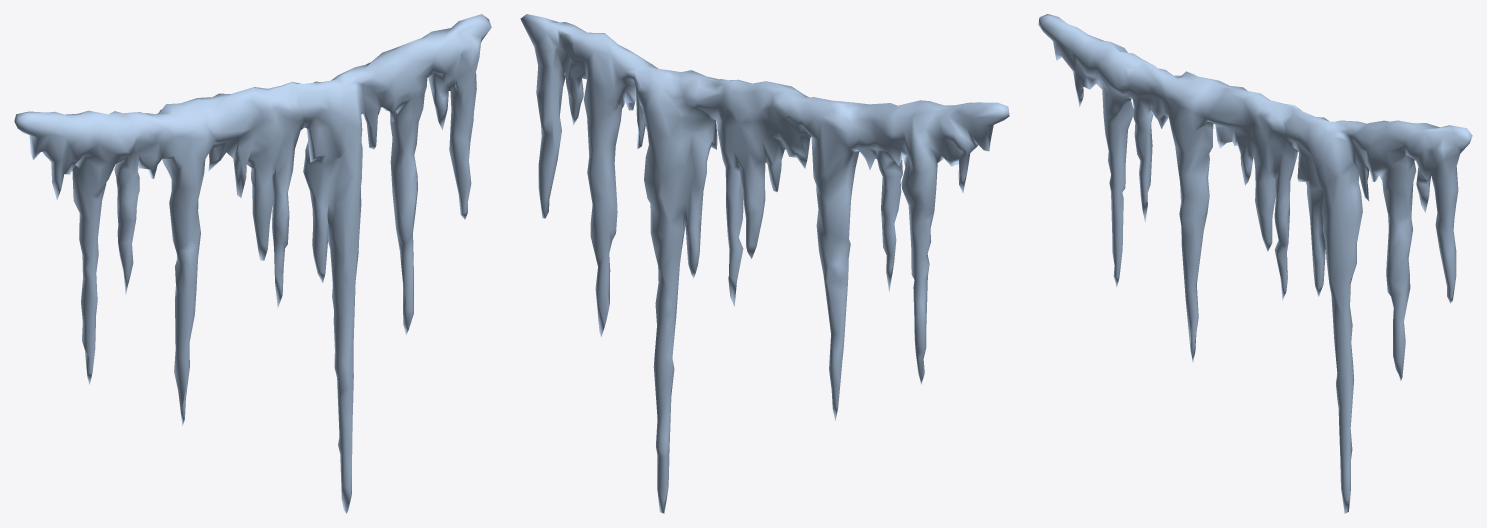
Rendered from IciclesSmall_Cables_04.fbx.
The picture shows the model from 3 angles, left to right: view 1: azimuth 30°, elevation 25°; view 2: azimuth 150°, elevation 25°; view 3: azimuth 330°, elevation 25°; orthographic projection. The views are drawn at different scales.
Visible parts, largest first — view 1: IciclesSmall_Cables_04.001; view 2: IciclesSmall_Cables_04.001; view 3: IciclesSmall_Cables_04.001.
Part boxes in pixels (x1,y1,x2,y2): IciclesSmall_Cables_04.001: (14, 14, 491, 513); IciclesSmall_Cables_04.001: (520, 14, 1009, 513); IciclesSmall_Cables_04.001: (1038, 14, 1472, 513).
Bounding box in the file's own units: 1.06 × 1.03 × 0.117.
